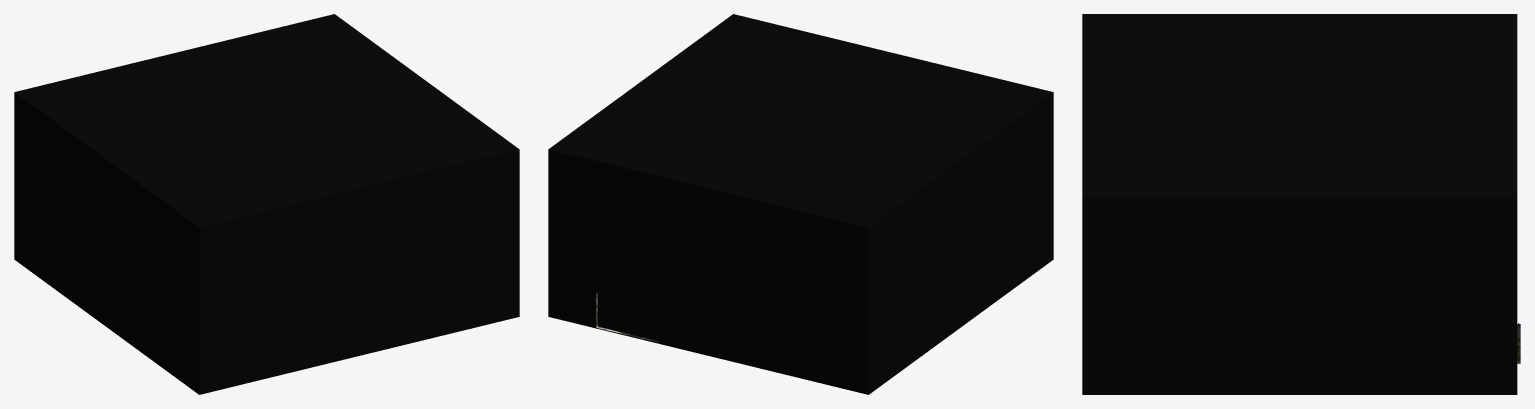
3 renders of one model, left to right at view 1: azimuth 30°, elevation 25°; view 2: azimuth 150°, elevation 25°; view 3: azimuth 270°, elevation 25°, orthographic. The views are drawn at different scales.
Visible parts, largest first — view 1: skybox; view 2: skybox; view 3: skybox.
Part boxes in pixels (x1,y1,x2,y2): skybox: [14, 14, 519, 394]; skybox: [548, 14, 1053, 394]; skybox: [1082, 14, 1517, 394].
Size of the model in its own units: 3937 by 1969 by 3969.
